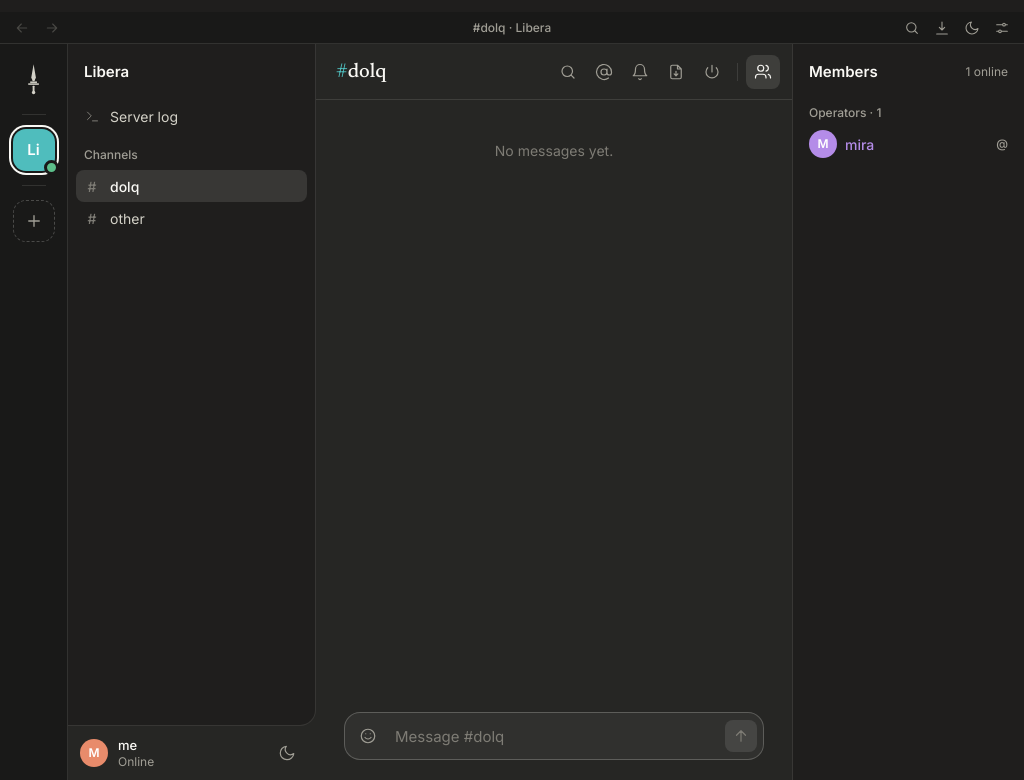
Test case: App: sending › sends a channel message and shows it
Type "hello world" into the field with placeholder "Message #dolq" at (555, 736), box [387, 719, 723, 753]
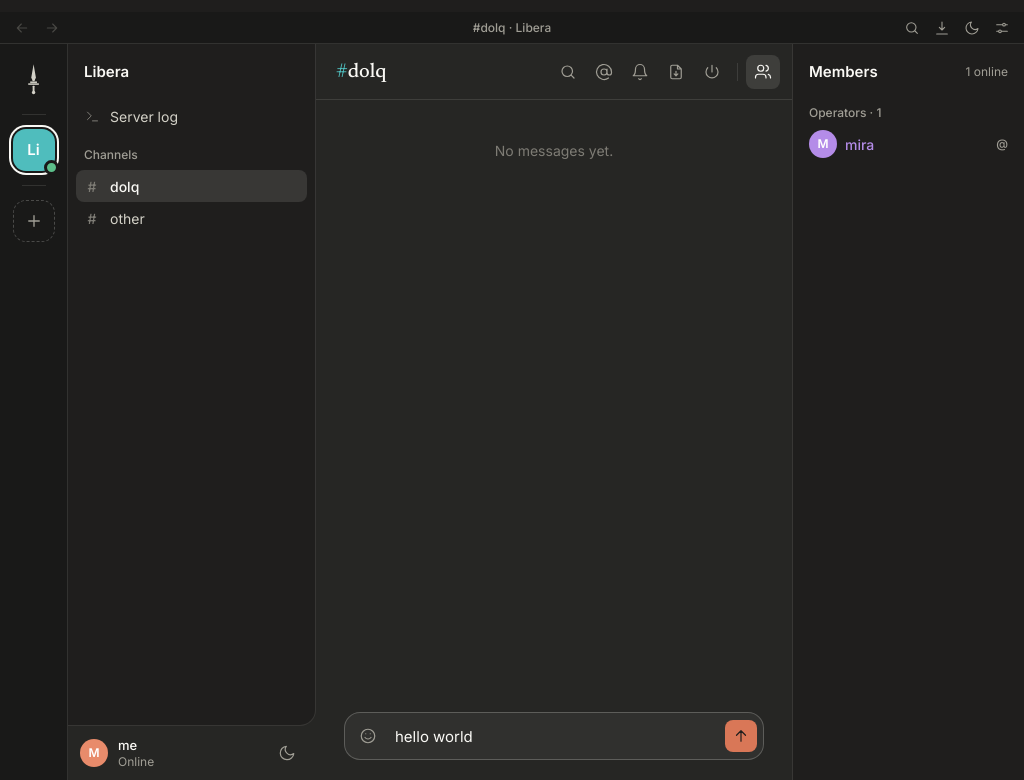
Submit the form with placeholder "Message #dolq", box [344, 712, 764, 760]
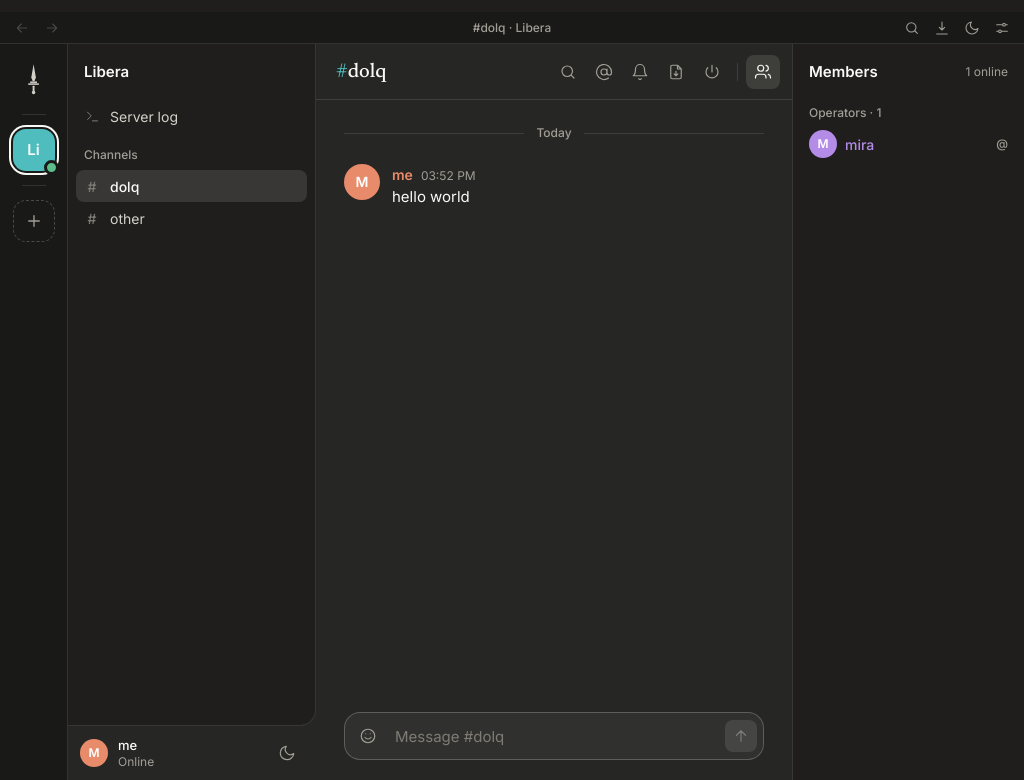
Expected: the text "hello world" is shown, [392, 187, 470, 206]
